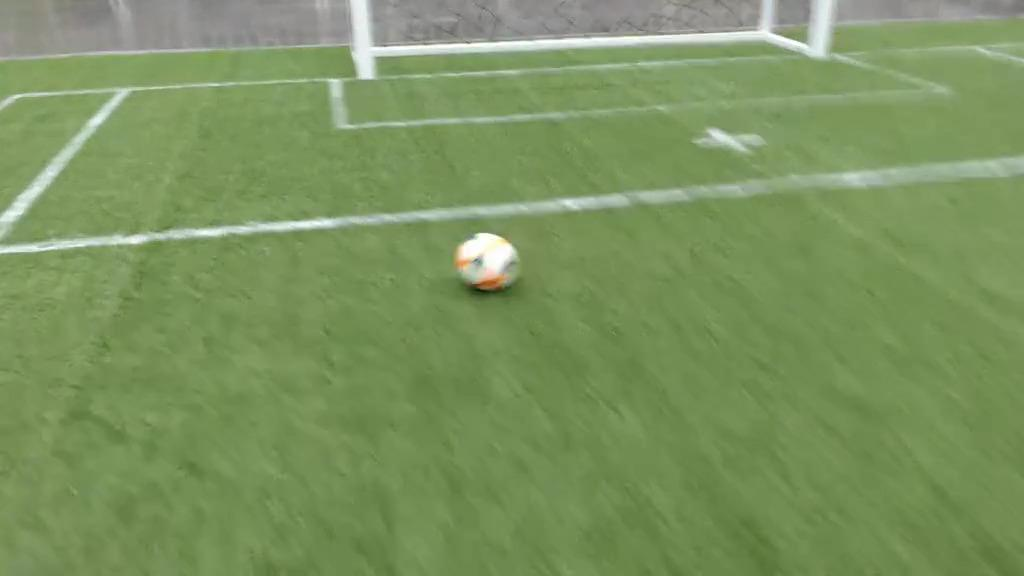ball: (456, 231, 521, 293)
